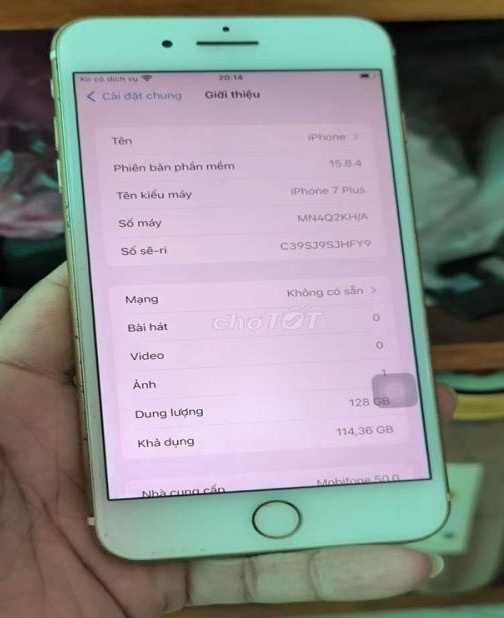scratch: (61, 250, 94, 477), (141, 543, 213, 554), (54, 196, 77, 230), (247, 499, 286, 509), (105, 529, 114, 540)
